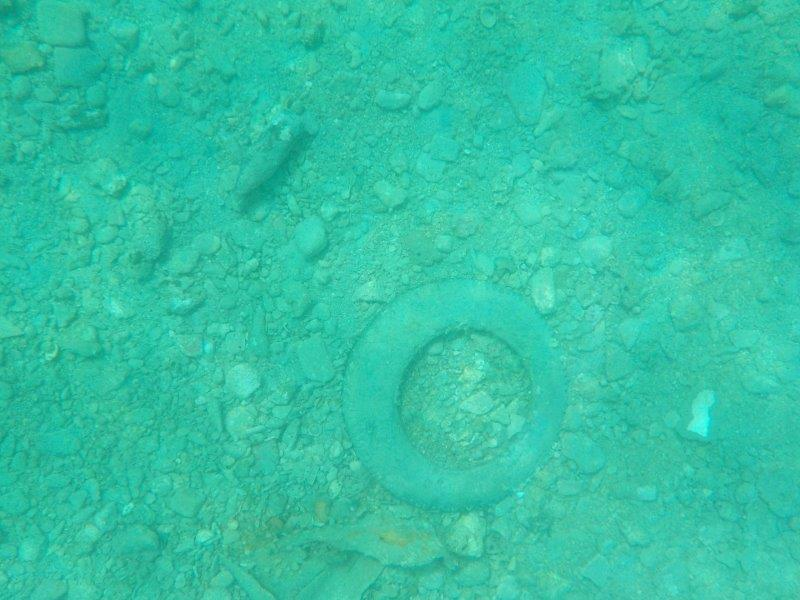bottle: (221, 106, 306, 205)
tire: (339, 277, 573, 516)
